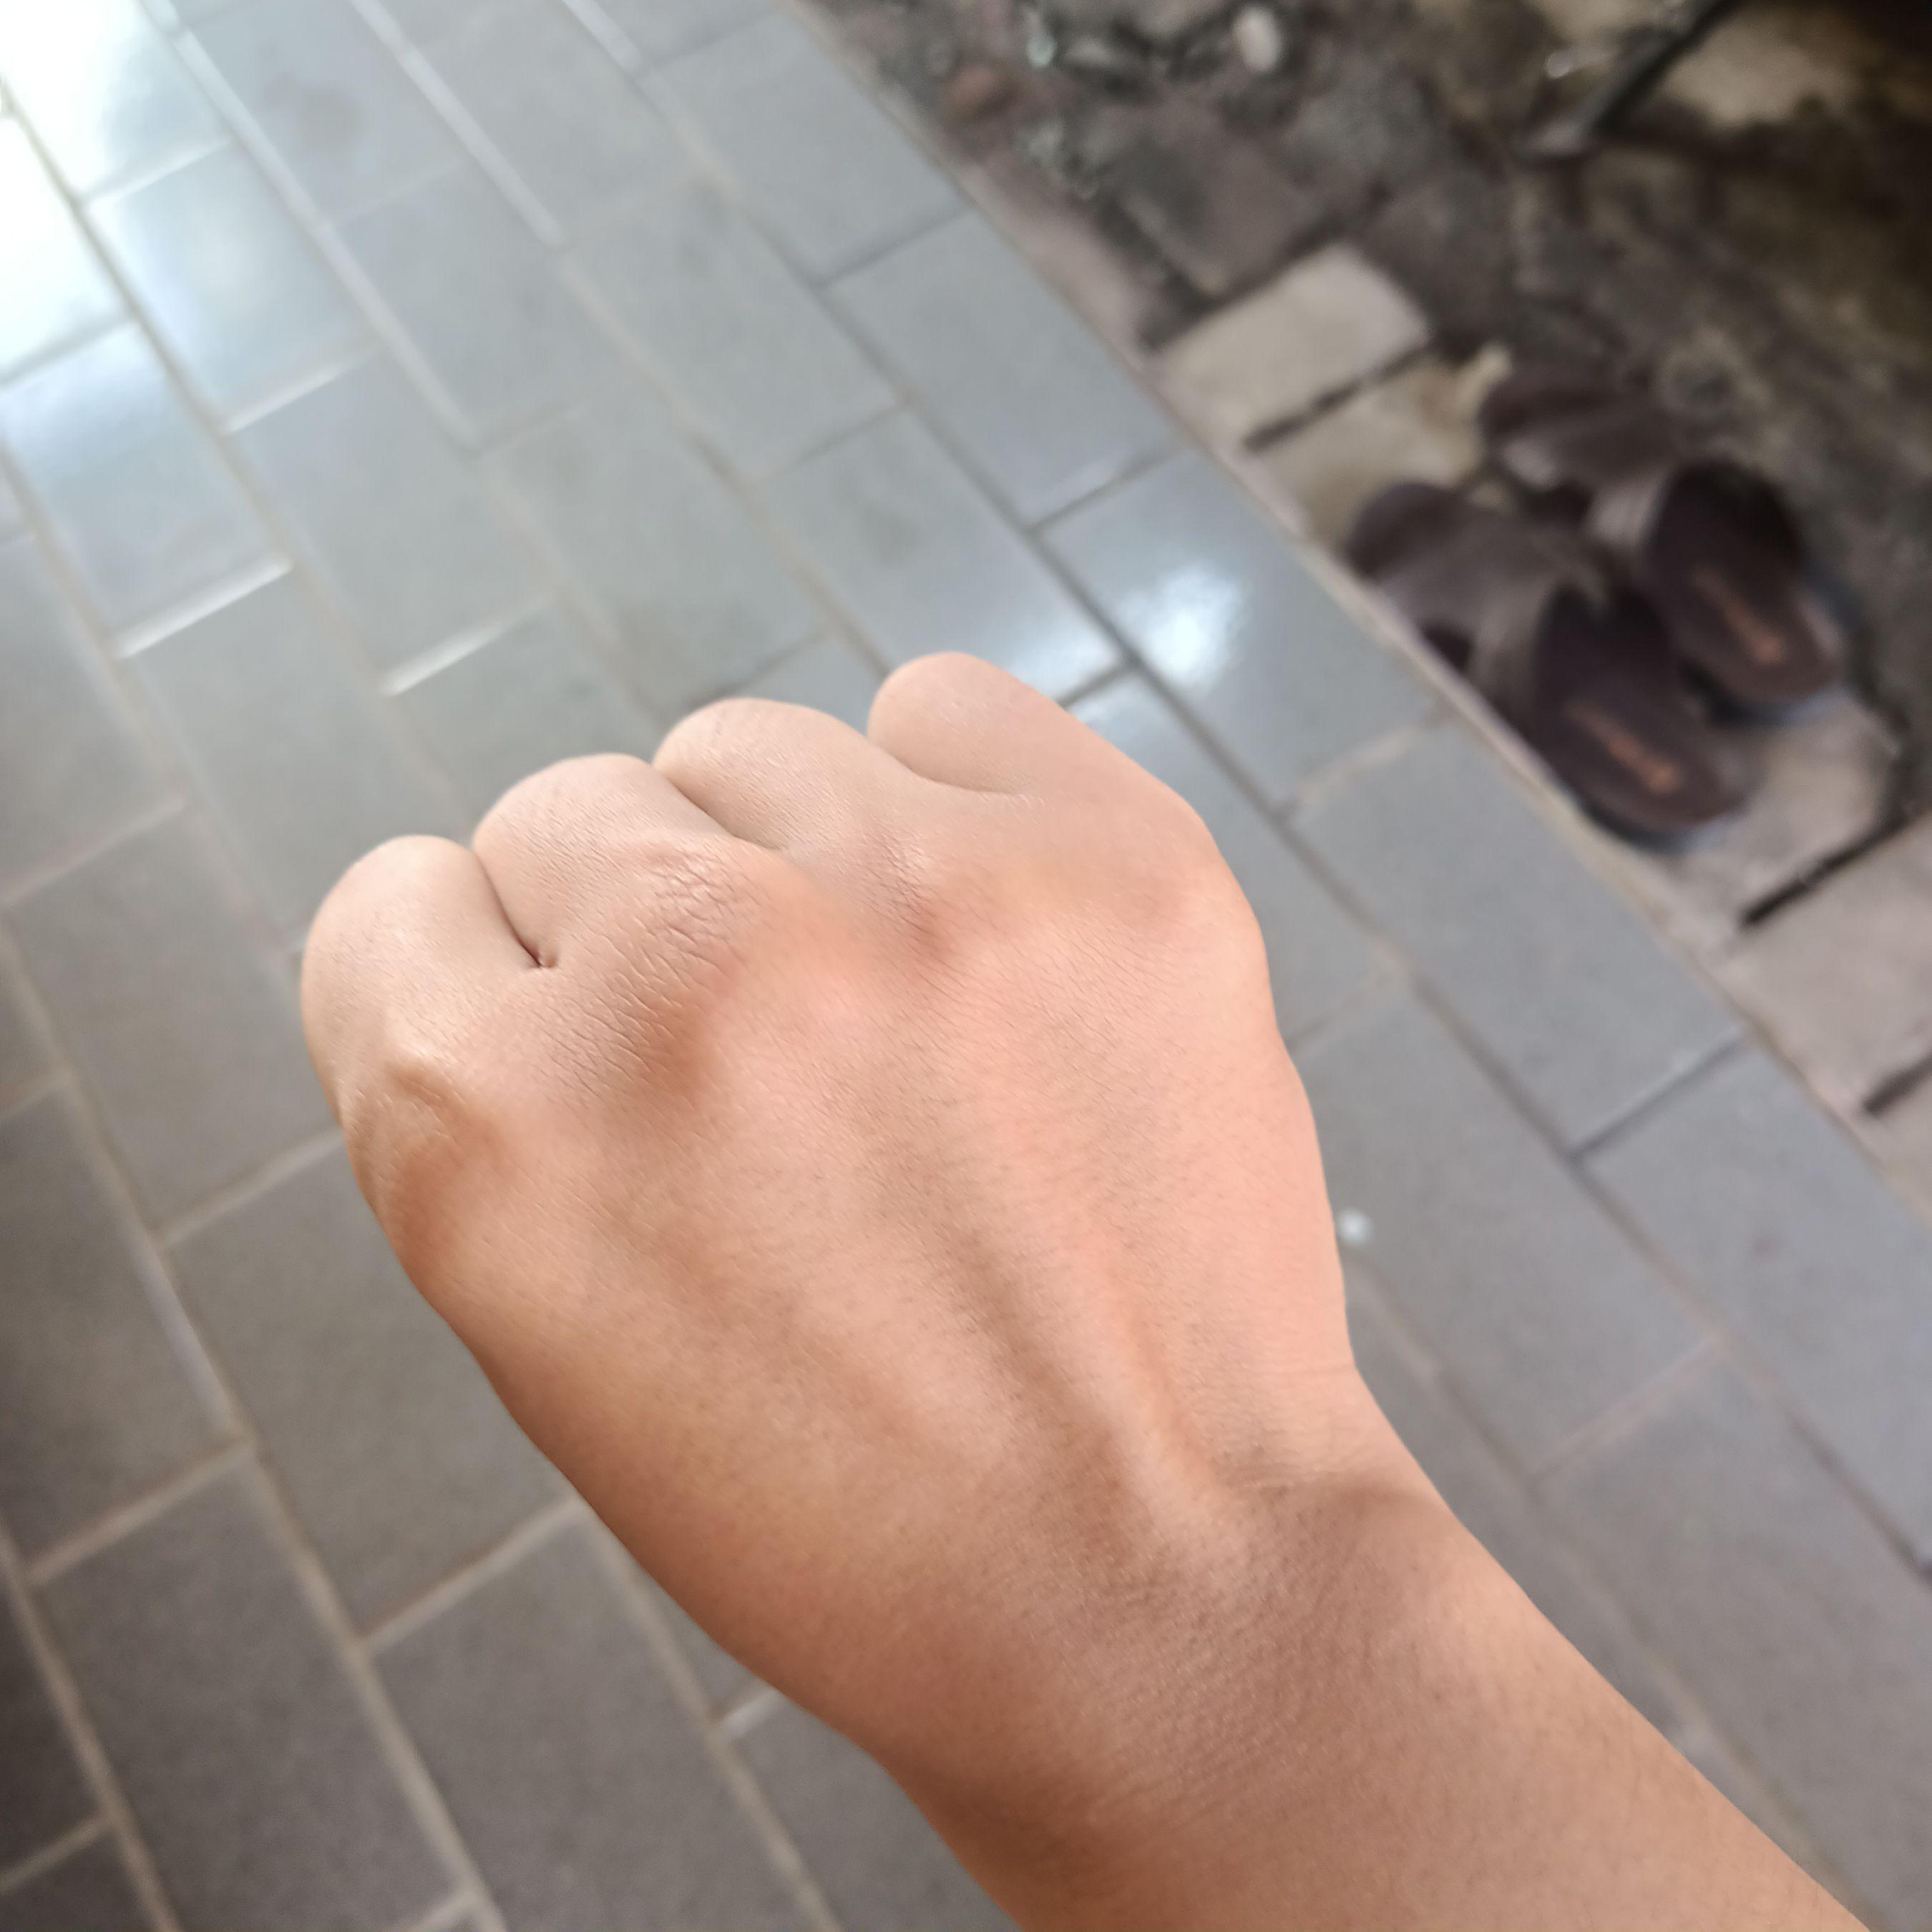rock: (272, 617, 1403, 1815)
